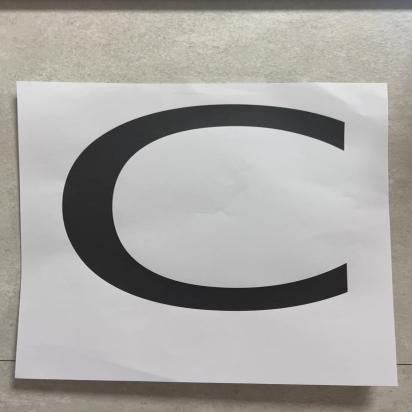seat: (2, 63, 412, 411)
